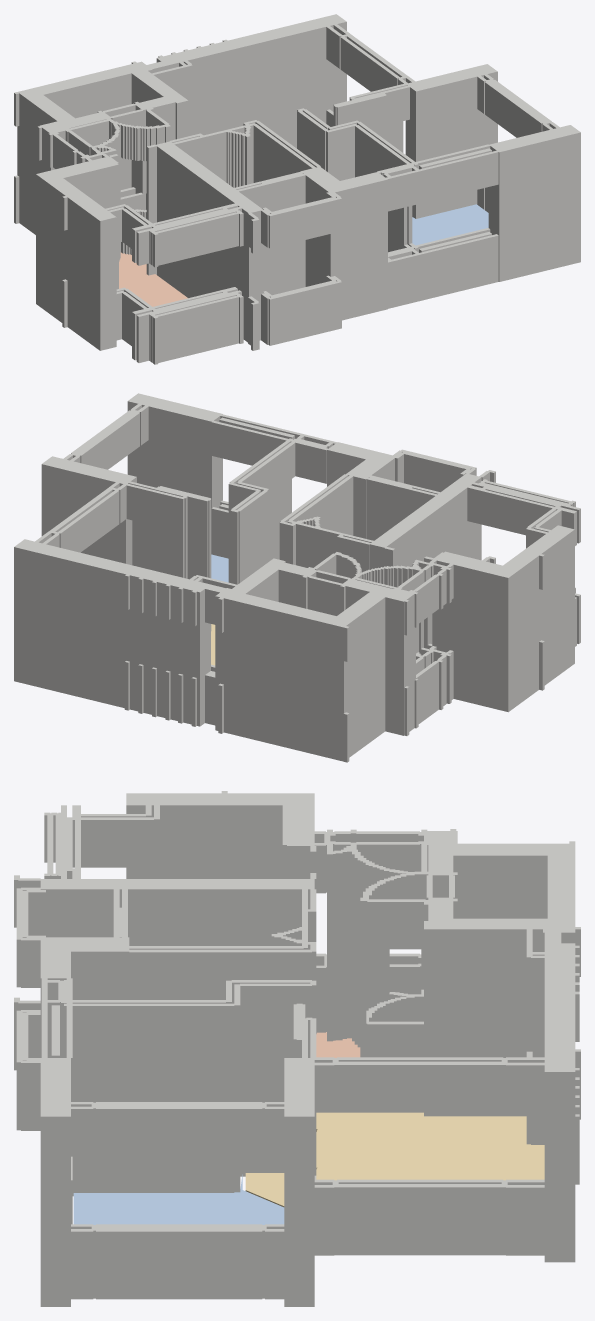
3 views of the same model, one above another, from view 1: azimuth 30°, elevation 25°; view 2: azimuth 150°, elevation 25°; view 3: azimuth 270°, elevation 25° (orthographic). The views are drawn at different scales.
Parts seen in each view (by area): view 1: walls, room:bedroom:4, room:kitchen:2; view 2: walls; view 3: walls, room:living:0, room:bedroom:4, room:kitchen:2.
Part boxes in pixels (x1,y1,x2,y2): walls: (14,14,580,364); room:bedroom:4: (412,204,488,245); room:kitchen:2: (119,252,187,306); walls: (14,393,580,762); walls: (14,791,580,1306); room:living:0: (245,1112,544,1207); room:bedroom:4: (73,1174,284,1224); room:kitchen:2: (316,1032,360,1057).
Bounding box in the file's own units: 10.27 × 2.8 × 7.56.
